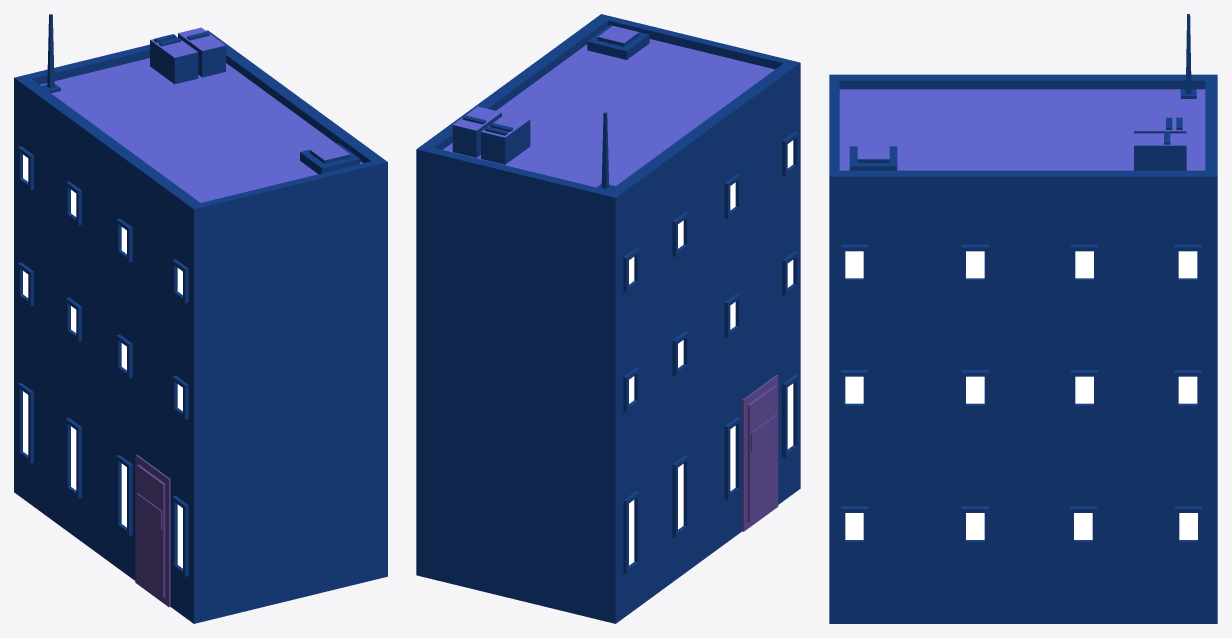
The picture shows the model from 3 angles, left to right: view 1: azimuth 30°, elevation 25°; view 2: azimuth 150°, elevation 25°; view 3: azimuth 270°, elevation 25°; orthographic projection. The views are drawn at different scales.
Parts seen in each view (by area): view 1: Building 04.002; view 2: Building 04.002; view 3: Building 04.002.
Boxes of the visible parts, x1,y1,x2,y2 form: Building 04.002: [14, 14, 387, 623]; Building 04.002: [416, 14, 800, 623]; Building 04.002: [829, 14, 1217, 623].
Bounding box in the file's own units: 3.61 × 8.16 × 5.52.
